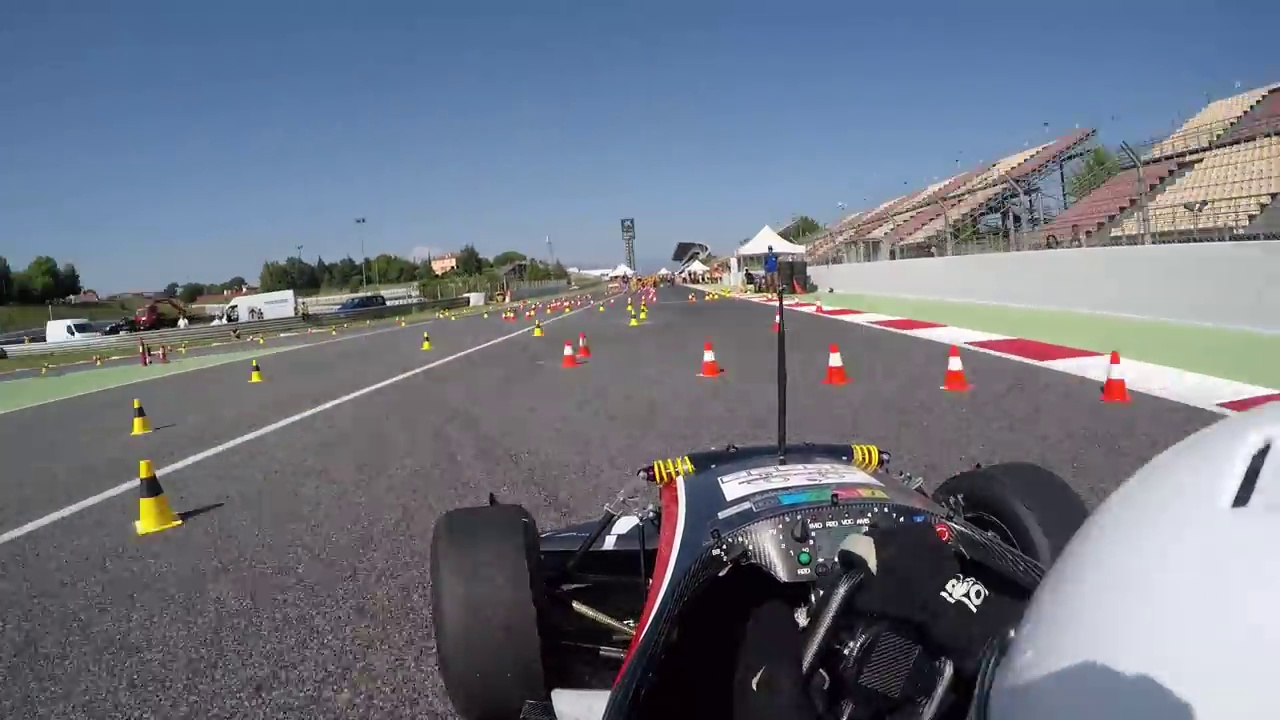Cone: (135, 458, 179, 534), (1102, 348, 1130, 404), (820, 344, 850, 388), (943, 344, 970, 391), (130, 398, 153, 438), (698, 339, 722, 377), (559, 335, 575, 371)
